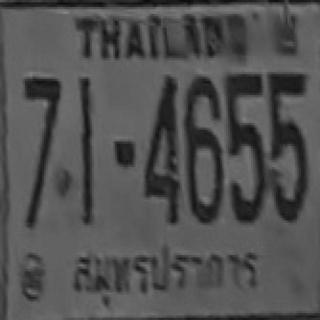N04: (144, 74, 178, 220)
N05: (267, 71, 306, 156)
N07: (23, 76, 60, 174)
P57: (63, 240, 268, 302)
